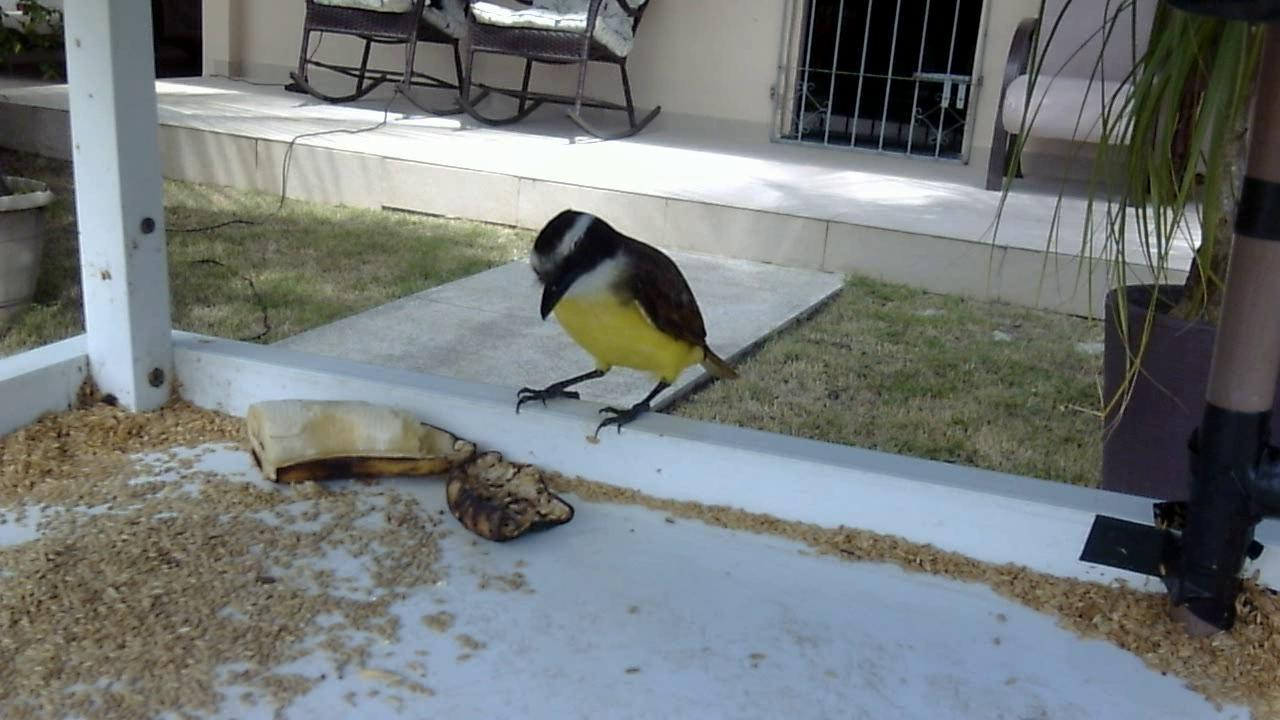bem_te_vi: (504, 201, 756, 453)
